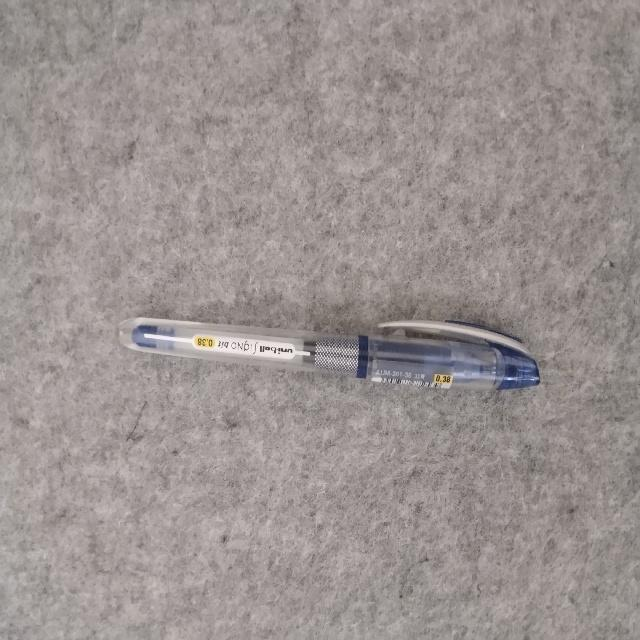pen: (118, 318, 539, 389)
